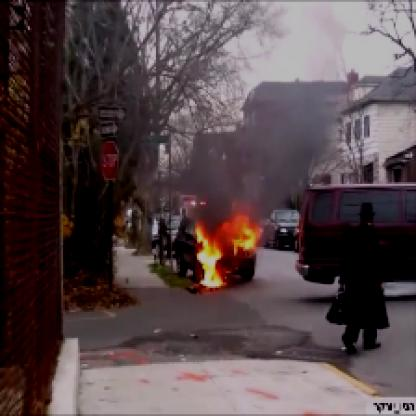Fire: (186, 191, 254, 290)
